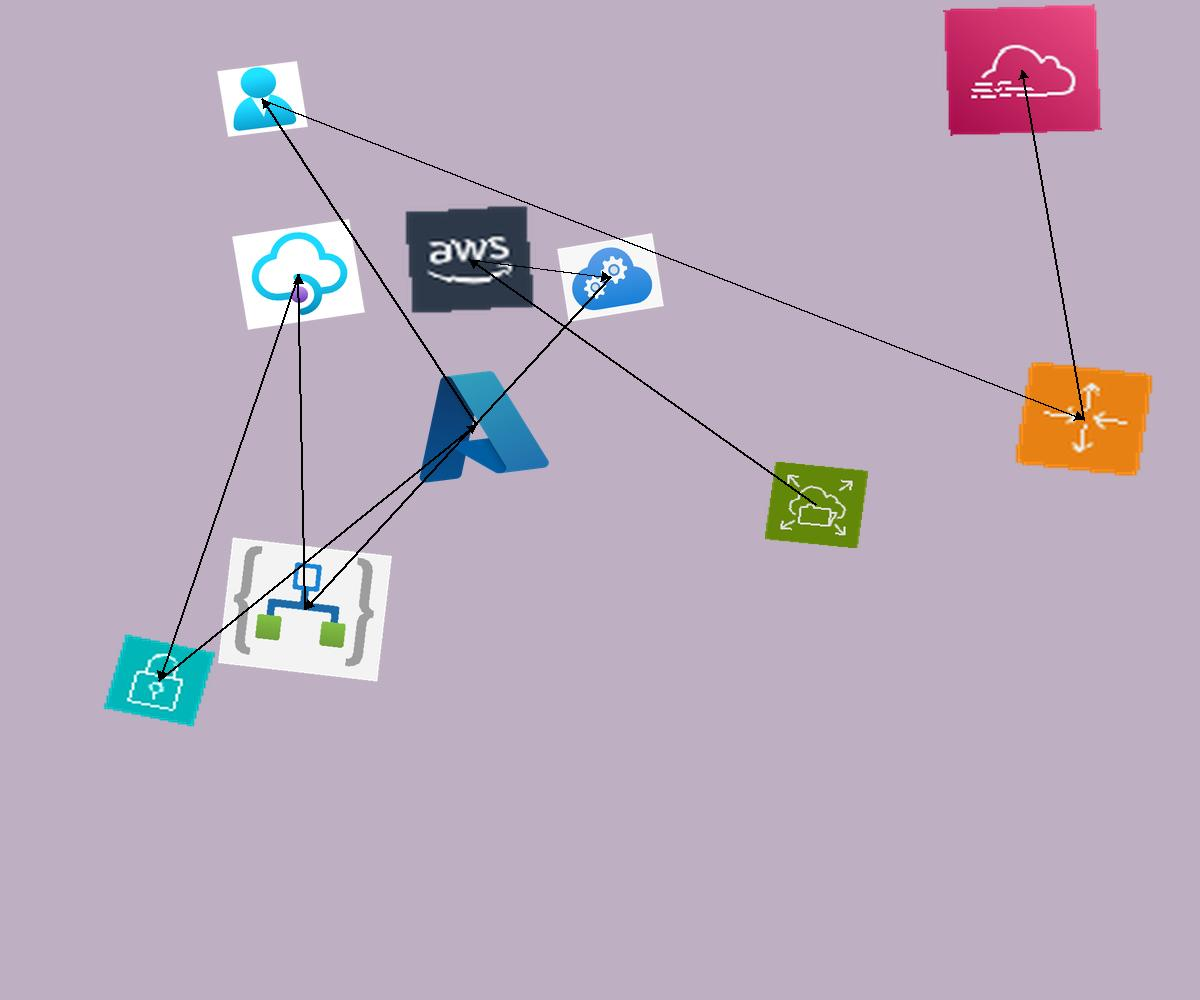AWS-Cloud-logo: (403, 204, 536, 315)
AWS-CloudTrail: (943, 4, 1102, 136)
AWS-EFS: (764, 461, 869, 549)
AWS-Private-subnet: (102, 633, 217, 728)
AWS-Scaling-group: (1013, 360, 1155, 478)
Azure_api_gateway: (232, 219, 365, 330)
Azure_cloud_services: (557, 233, 664, 322)
Azure_integration-204-Logic-Apps: (218, 537, 392, 682)
Azure_services: (395, 357, 557, 492)
Azure_users: (217, 61, 308, 137)
